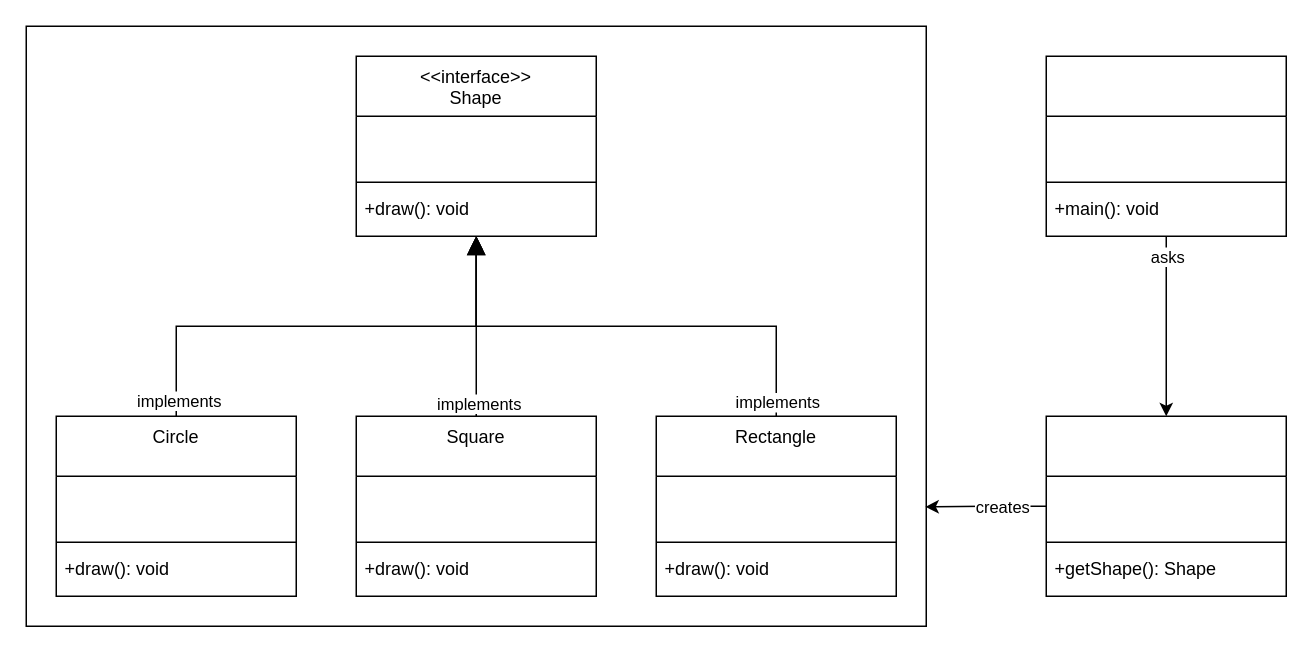
This 1313x653 diagram has some shape labels left out. Here are the shapes that lost their labels. From the top down, the box of each, then its label:
(1045, 55, 1286, 236): FactoryPatternDemo
(1045, 415, 1286, 596): ShapeFactory
